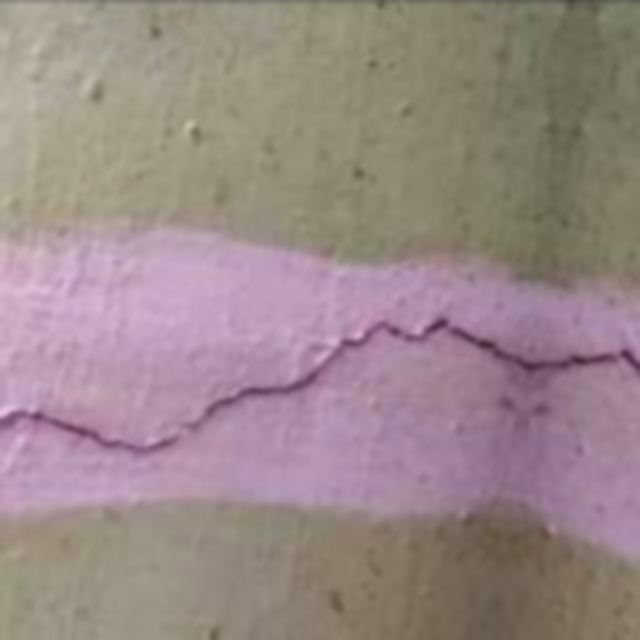SurfaceCrack: (4, 232, 640, 510)
